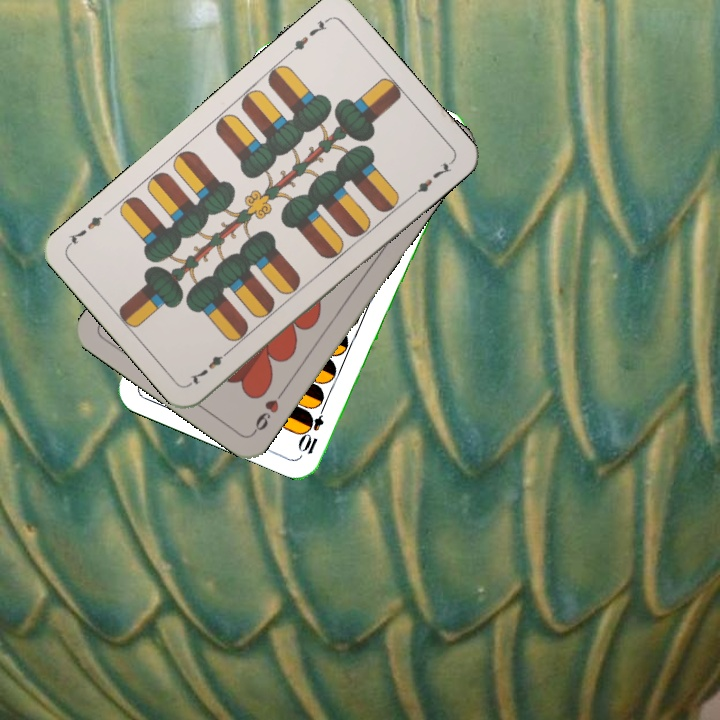E10: (298, 400, 329, 458)
E7: (283, 14, 332, 58), (185, 344, 234, 387)
H9: (249, 384, 288, 436)
